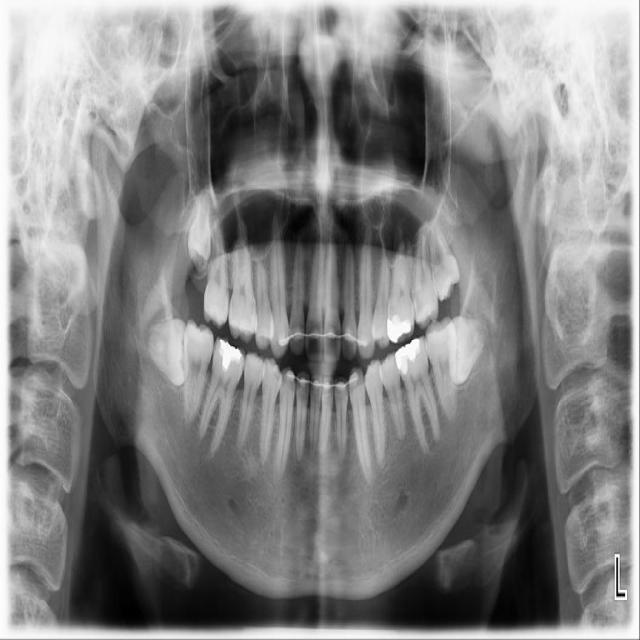Filling: (395, 338, 422, 377), (217, 339, 246, 371), (386, 314, 410, 345)
impacted tooth: (137, 316, 186, 388), (447, 318, 496, 386)
